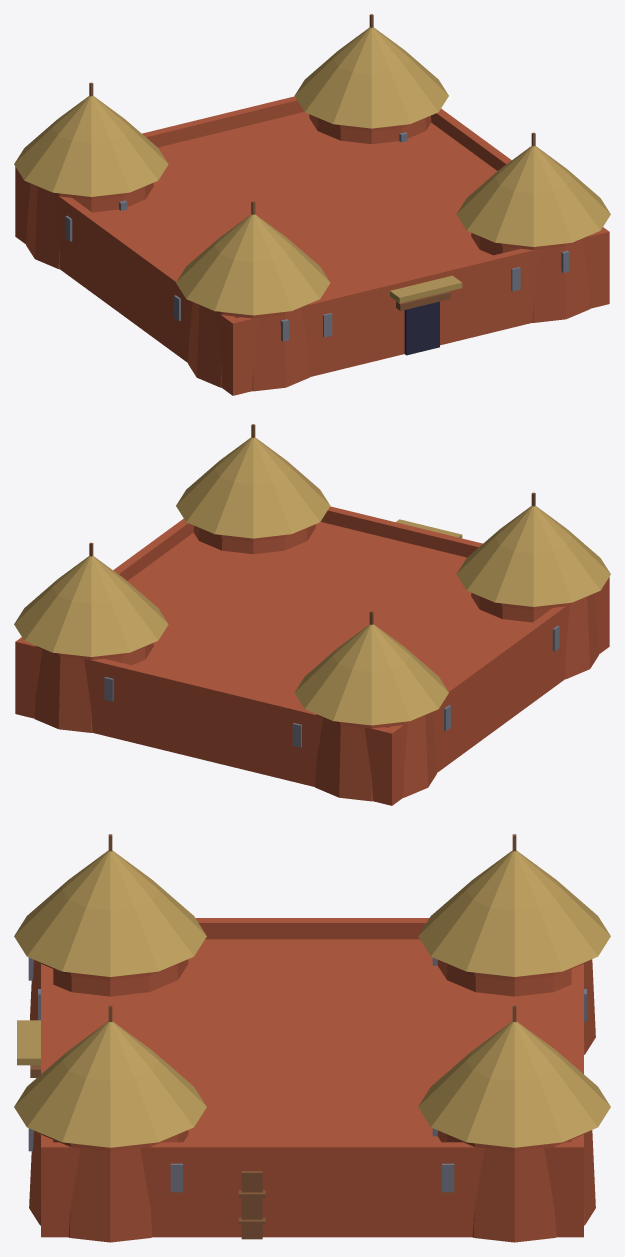
Rendered from house-2x2-1f-tata-a.glb.
The picture shows the model from 3 angles, top to bottom: view 1: azimuth 30°, elevation 25°; view 2: azimuth 150°, elevation 25°; view 3: azimuth 270°, elevation 25°; orthographic projection. The views are drawn at different scales.
Parts seen in each view (by area): view 1: house-2x2-1f-tata-a; view 2: house-2x2-1f-tata-a; view 3: house-2x2-1f-tata-a.
Part boxes in pixels (x1,y1,x2,y2): house-2x2-1f-tata-a: [14, 14, 610, 395]; house-2x2-1f-tata-a: [14, 424, 610, 805]; house-2x2-1f-tata-a: [14, 834, 610, 1242].
Bounding box in the file's own units: 1.98 × 0.74 × 1.98.
Materials: 1 (1 with a texture image).
